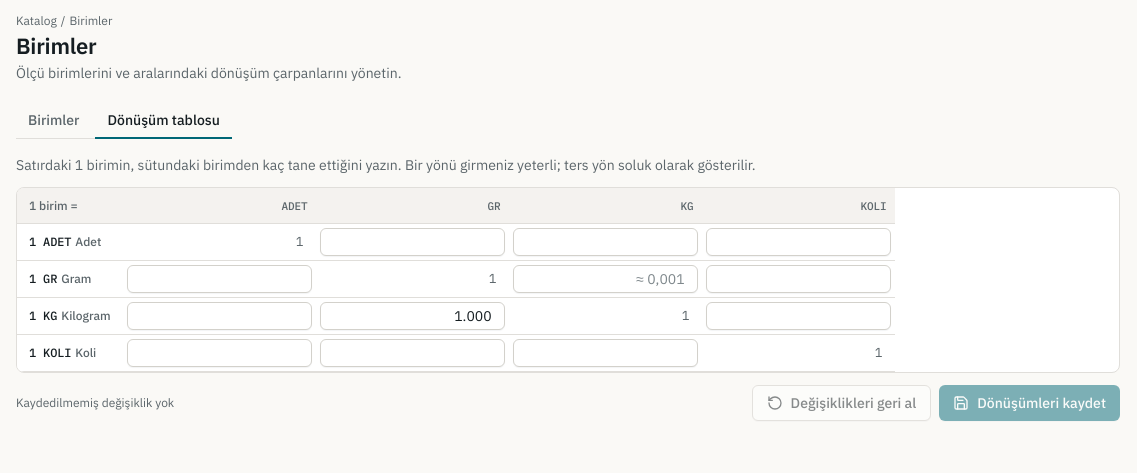
it: UnitsPage › keeps rendering when a stored cell holds unparsed text, and enforces numeric(20,6)
Replace the text in the field named "1 KG kaç GR" with "abc". click: {"x": 412, "y": 316}
box: [320,302,505,330]
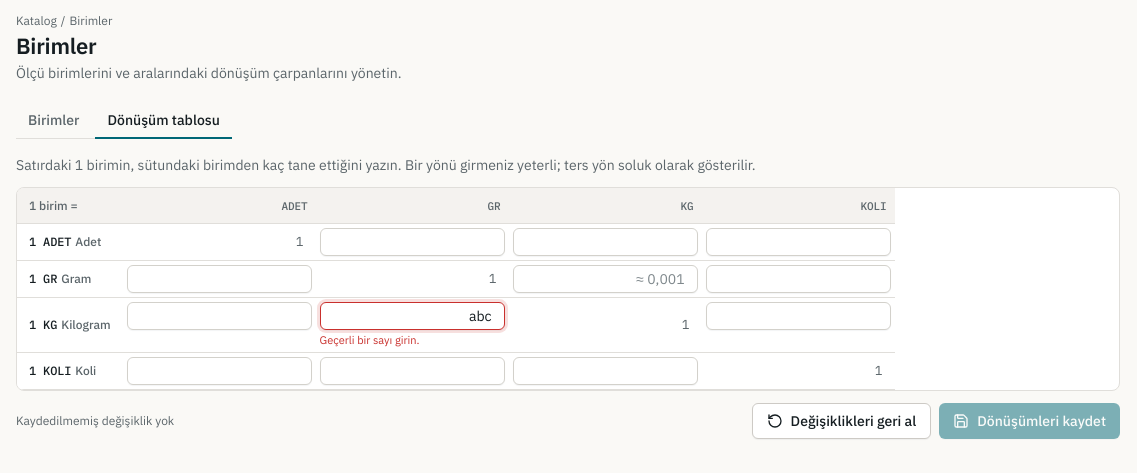
Expected: the table named "Birim dönüşüm tablosu" is shown, [17,188,895,390]
Expected: the text "Geçerli bir sayı girin." is shown, [320,333,420,347]
Expected: the button "Dönüşümleri kaydet" is disabled, [939,403,1120,439]
Replace the text in the field named "1 KG kaç GR" with "100000000000000". click: {"x": 412, "y": 316}
box: [320,302,505,330]
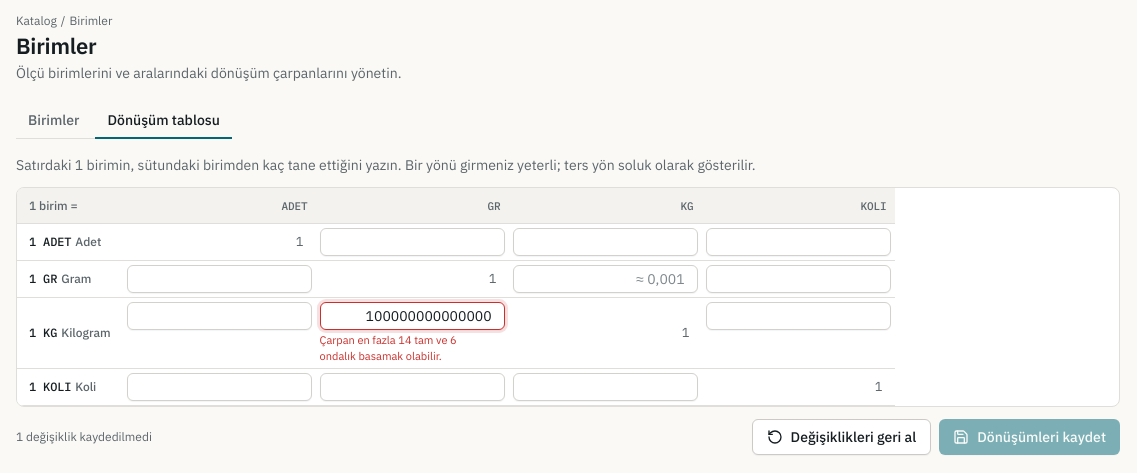
Expected: the text "Çarpan en fazla 14 tam ve 6 ondalık basamak olabilir." is shown, [320,332,480,364]
Expected: the button "Dönüşümleri kaydet" is disabled, [939,419,1120,455]
